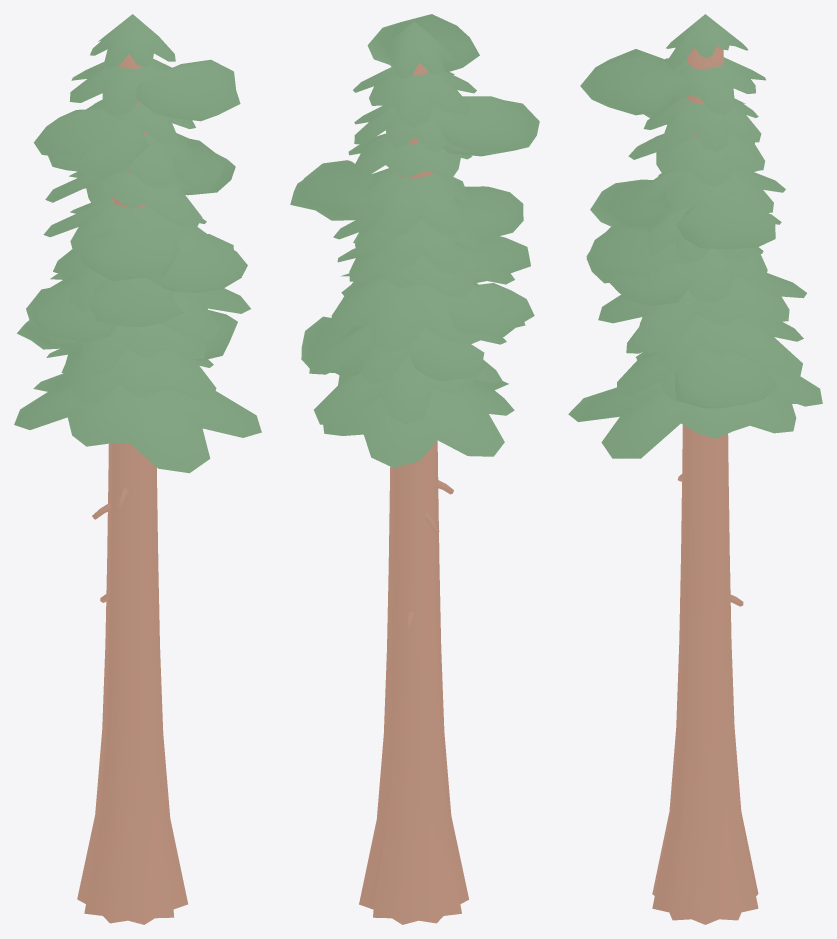
The model's file is Blender_Redwood_3.glb.
3 views of the same model, side by side, from view 1: azimuth 30°, elevation 25°; view 2: azimuth 150°, elevation 25°; view 3: azimuth 270°, elevation 25° (orthographic).
Visible parts, largest first — view 1: Blender_Redwood_3; view 2: Blender_Redwood_3; view 3: Blender_Redwood_3.
Part boxes in pixels (left/top/right/bottom): Blender_Redwood_3: left=14, top=14, right=261, bottom=924; Blender_Redwood_3: left=290, top=14, right=539, bottom=924; Blender_Redwood_3: left=568, top=14, right=822, bottom=924.
Size of the model in its own units: 27.48 by 110 by 28.59.
